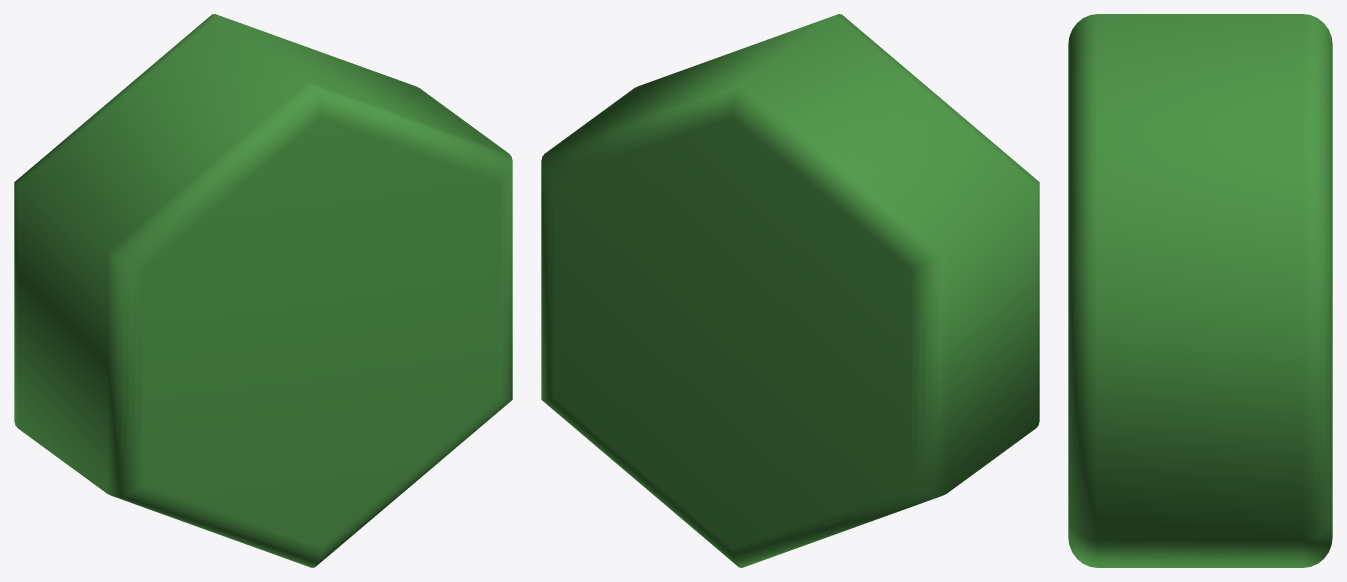
Rendered from GrassTileBlank.fbx.
3 renders of one model, left to right at view 1: azimuth 30°, elevation 25°; view 2: azimuth 150°, elevation 25°; view 3: azimuth 270°, elevation 25°, orthographic. The views are drawn at different scales.
Parts seen in each view (by area): view 1: Circle.004; view 2: Circle.004; view 3: Circle.004.
Boxes of the visible parts, left/top/right/bottom form: Circle.004: left=14, top=14, right=512, bottom=567; Circle.004: left=541, top=14, right=1039, bottom=567; Circle.004: left=1068, top=14, right=1332, bottom=567.
Size of the model in its own units: 200 by 231 by 100.
